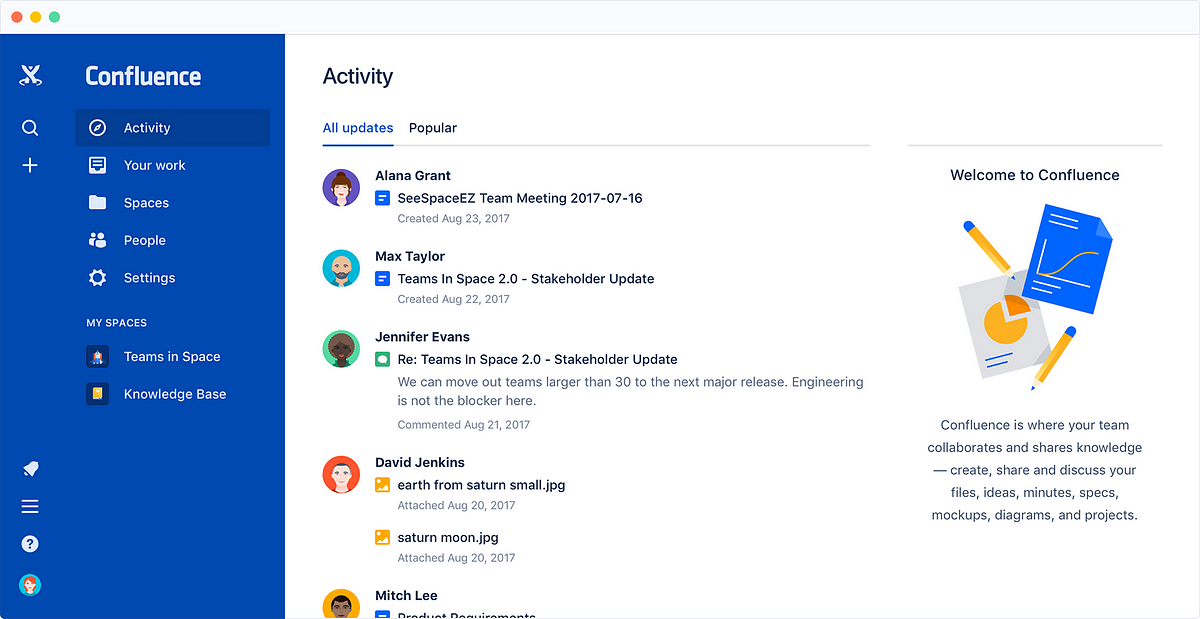search_box: (16, 107, 54, 142)
